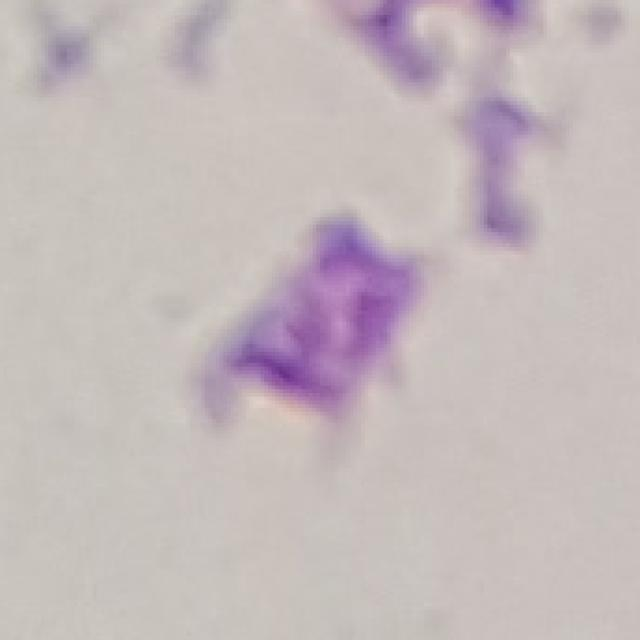non-sperm: (210, 218, 428, 421)
